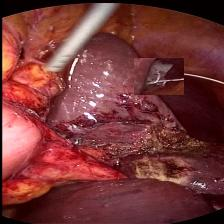Irrigator: (43, 35, 88, 72)
Specimen Bag: (133, 58, 183, 95)
